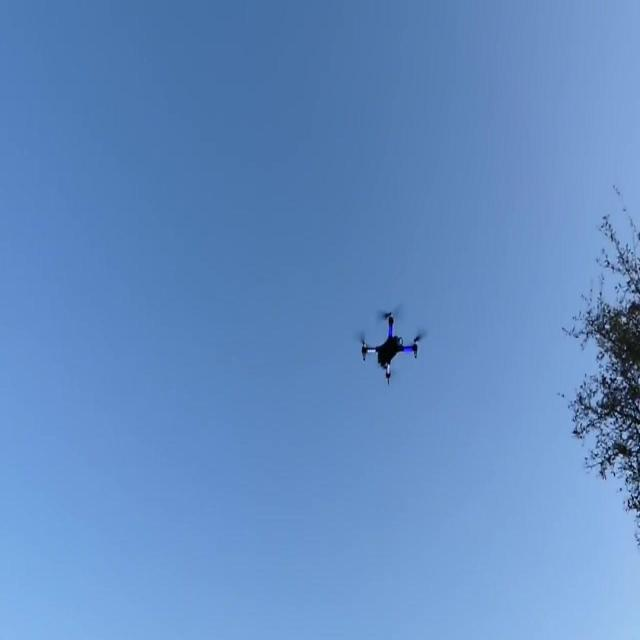drone: (359, 308, 420, 389)
